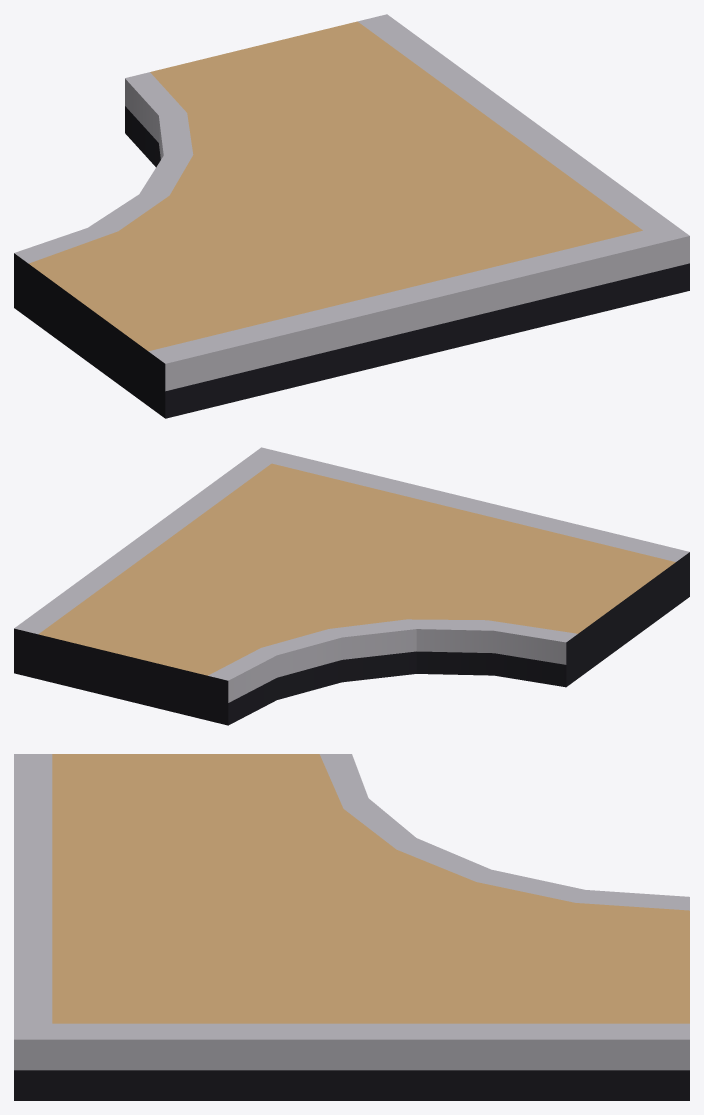
File: ManPad_CNR_3Grind.fbx
3 renders of one model, top to bottom at view 1: azimuth 30°, elevation 25°; view 2: azimuth 150°, elevation 25°; view 3: azimuth 270°, elevation 25°, orthographic. The views are drawn at different scales.
Visible parts, largest first — view 1: ManPad_CNR_3Grind; view 2: ManPad_CNR_3Grind; view 3: ManPad_CNR_3Grind.
Part boxes in pixels (x1,y1,x2,y2): ManPad_CNR_3Grind: [14, 14, 689, 418]; ManPad_CNR_3Grind: [14, 447, 689, 725]; ManPad_CNR_3Grind: [14, 754, 689, 1100].
Bounding box in the file's own units: 10 × 1 × 10.
